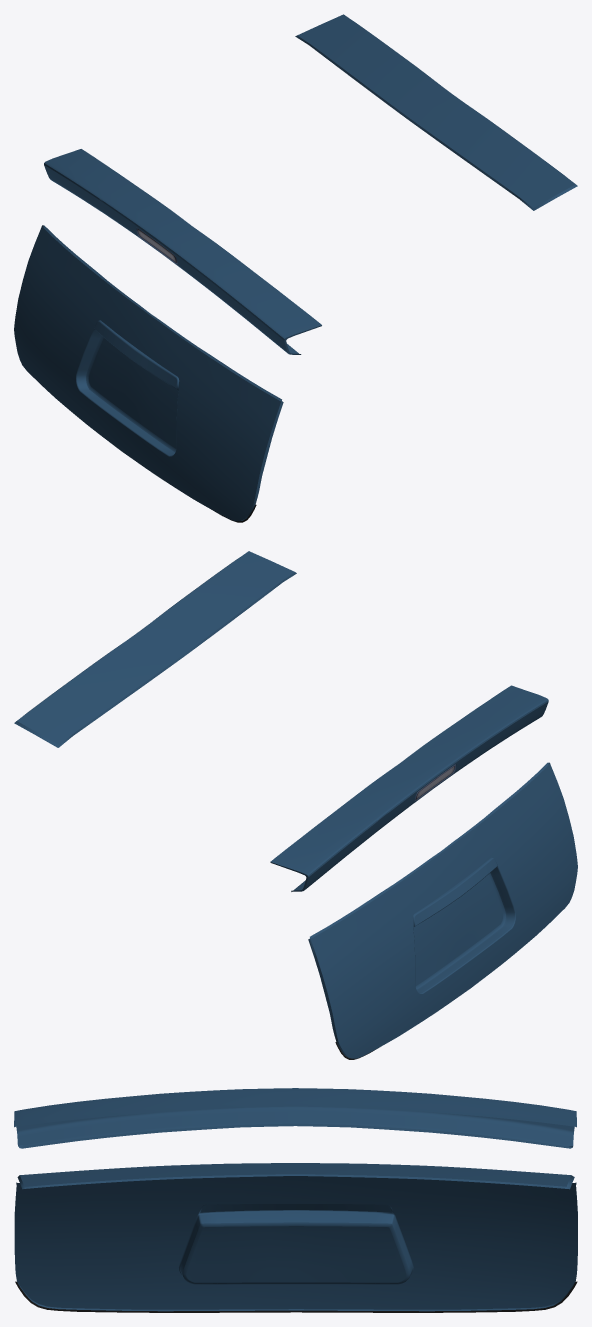
3 renders of one model, top to bottom at view 1: azimuth 30°, elevation 25°; view 2: azimuth 150°, elevation 25°; view 3: azimuth 270°, elevation 25°, orthographic. The views are drawn at different scales.
Parts seen in each view (by area): view 1: Y191_13_461C_C_1_DaS_Y191_13_461C_C, Y191_13_461C_C_1_DaS_Y191_13_461C_C_E; view 2: Y191_13_461C_C_1_DaS_Y191_13_461C_C, Y191_13_461C_C_1_DaS_Y191_13_461C_C_E; view 3: Y191_13_461C_C_1_DaS_Y191_13_461C_C, Y191_13_461C_C_1_DaS_Y191_13_461C_C_E, Y191_13_461C_C_Y191_13_461C_C_4_D.
Part boxes in pixels (bbox=[...]): Y191_13_461C_C_1_DaS_Y191_13_461C_C: bbox=[14, 14, 575, 521]; Y191_13_461C_C_1_DaS_Y191_13_461C_C_E: bbox=[42, 21, 577, 520]; Y191_13_461C_C_1_DaS_Y191_13_461C_C: bbox=[17, 551, 577, 1058]; Y191_13_461C_C_1_DaS_Y191_13_461C_C_E: bbox=[14, 559, 549, 1058]; Y191_13_461C_C_1_DaS_Y191_13_461C_C: bbox=[14, 1088, 577, 1309]; Y191_13_461C_C_1_DaS_Y191_13_461C_C_E: bbox=[14, 1123, 577, 1311]; Y191_13_461C_C_Y191_13_461C_C_4_D: bbox=[15, 1281, 577, 1312].
Size of the model in its own units: 92.56 by 72.6 by 114.
